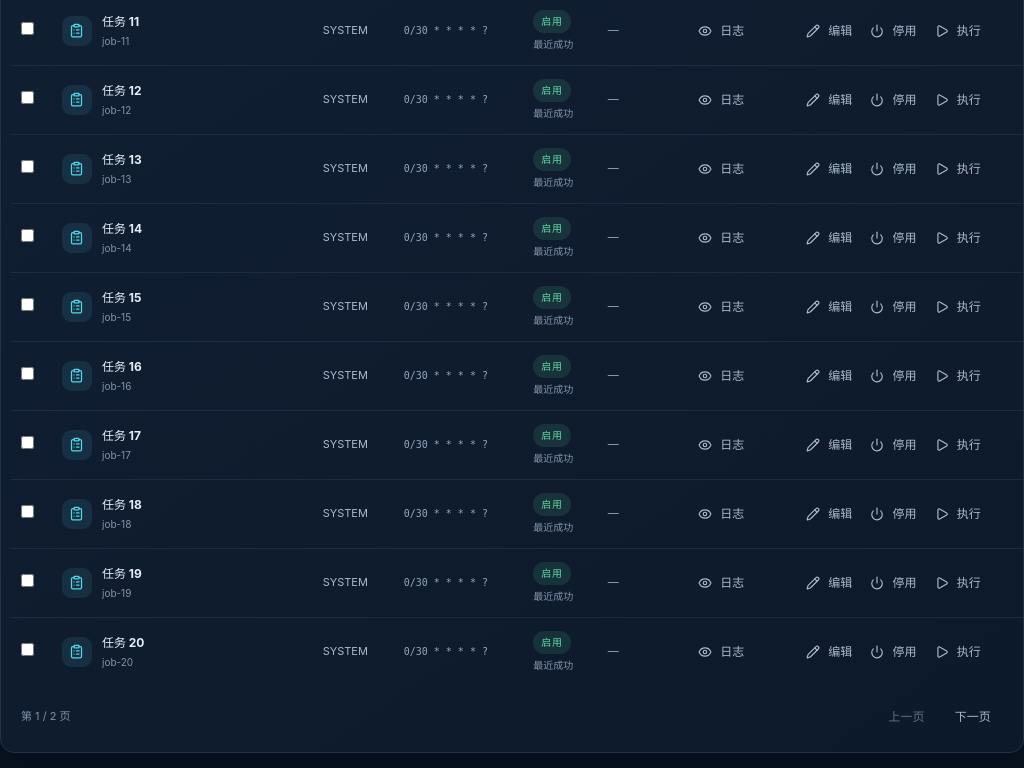
Test: JobsPage › 任务列表按 20 条分页并显示当前页状态
The width and height of the screenshot is (1024, 768).
(page scrolled)
Expected: the text "任务 21" is not shown
Expected: the text "第 1 / 2 页" is shown, [21,708,70,725]
Step 1. Click the button "下一页" → (973, 717), box [943,700,1003,734]
(page scrolled)
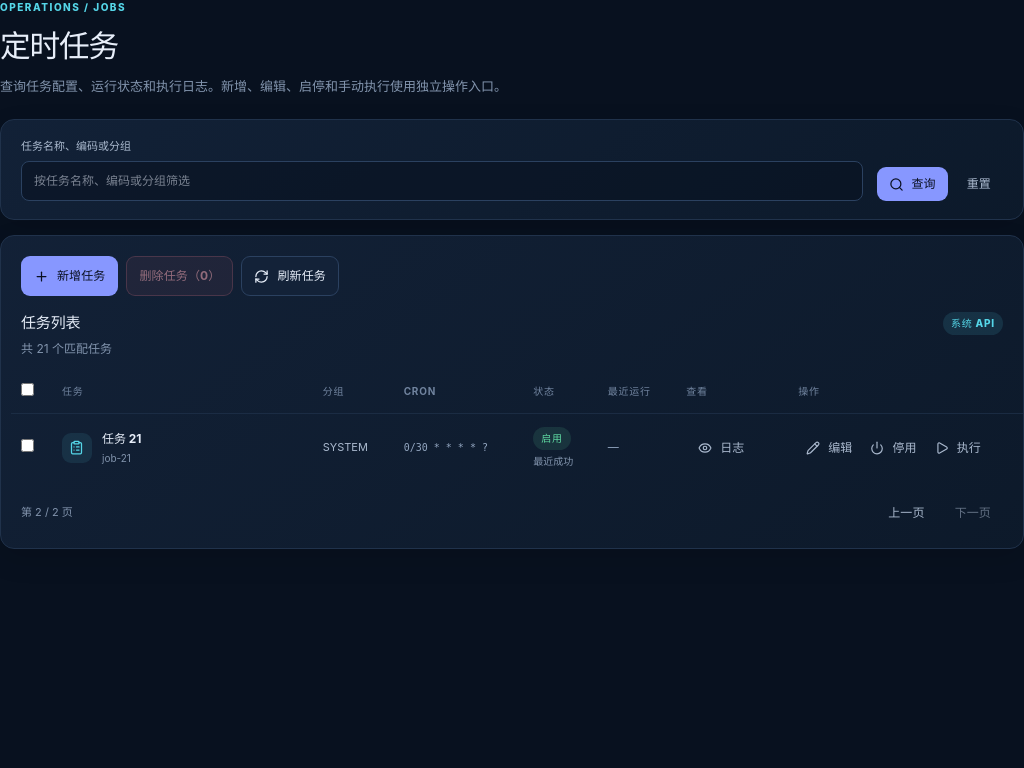
Expected: the text "任务 21" is shown, [102,430,142,448]
Expected: the text "任务 1" is gone
Expected: the text "第 2 / 2 页" is shown, [21,504,73,521]
